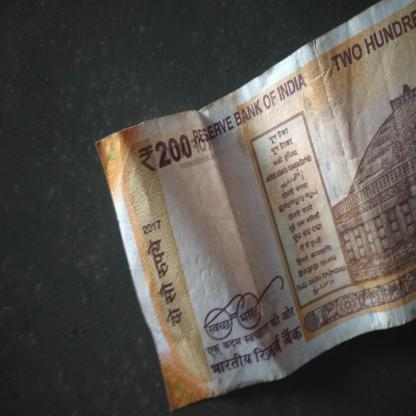New200Back: (107, 37, 415, 375)
